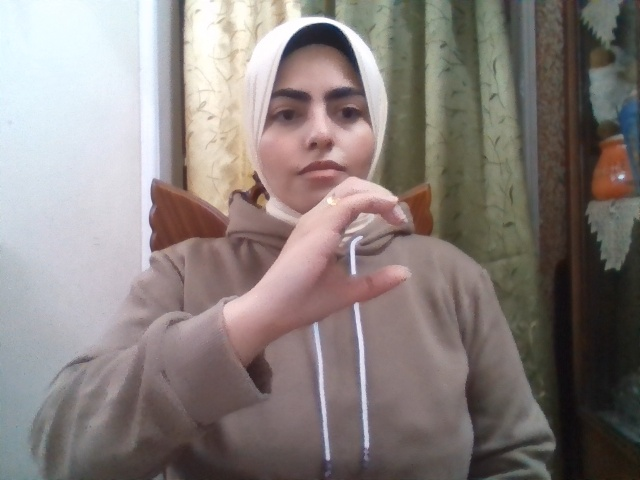C: (265, 177, 410, 329)
